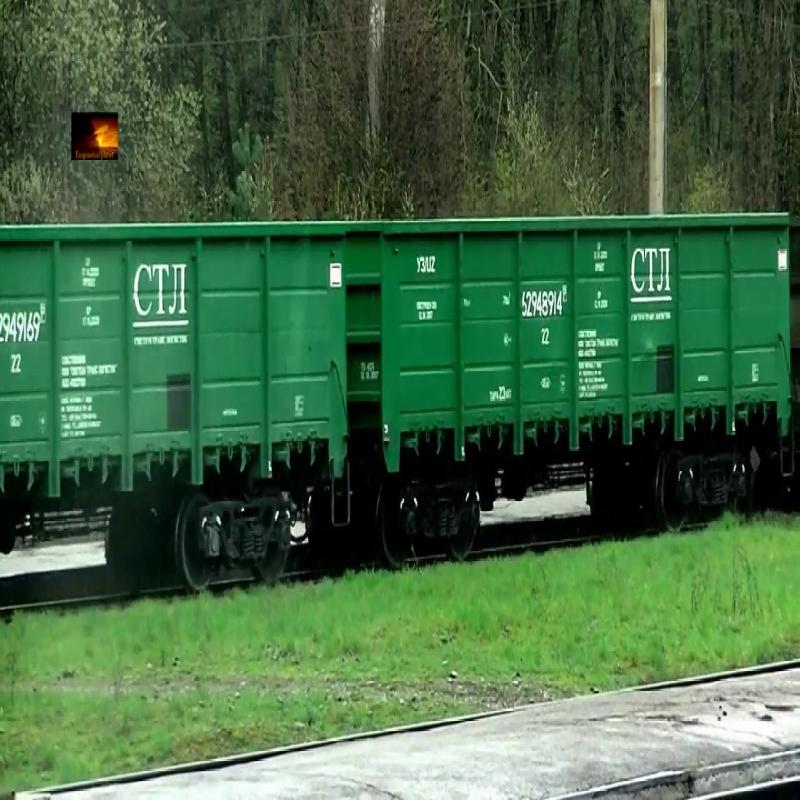train: (352, 208, 792, 497), (1, 217, 355, 514)
